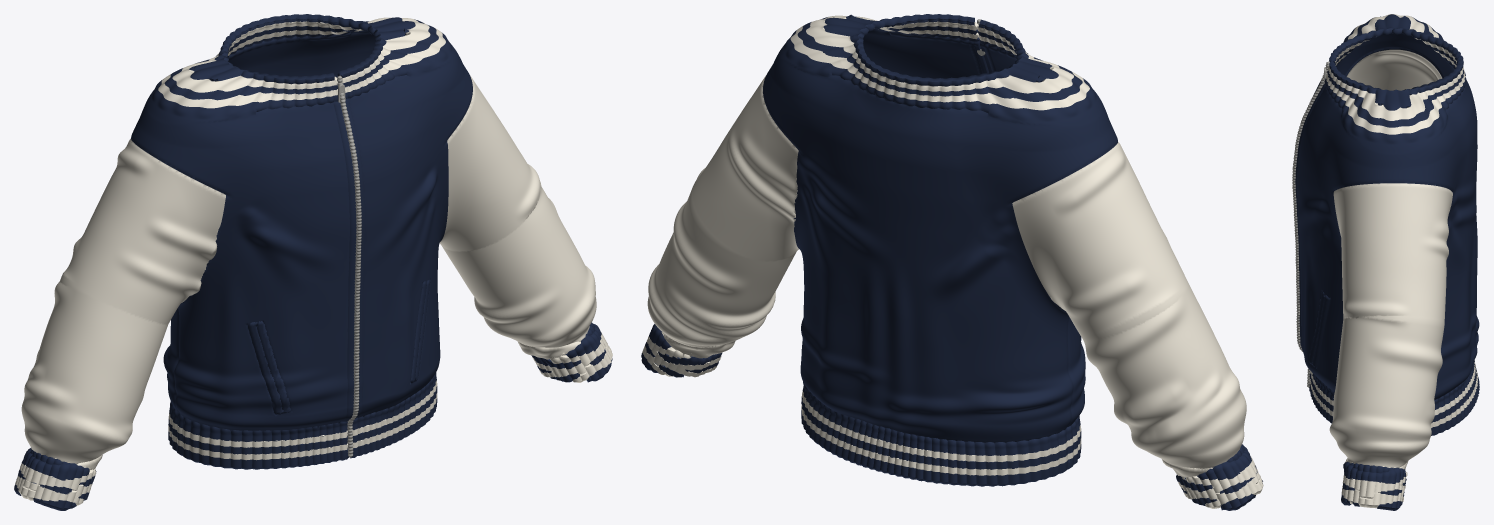
Rendered from 02_chaqueta_varsity_cremallera.glb.
3 views of the same model, side by side, from view 1: azimuth 30°, elevation 25°; view 2: azimuth 150°, elevation 25°; view 3: azimuth 270°, elevation 25° (orthographic). The views are drawn at different scales.
Visible parts, largest first — view 1: body, secondary, trim, zipper; view 2: body, secondary, trim; view 3: body, secondary, trim, zipper.
Part boxes in pixels (bbox=[...]): body: bbox=[14, 14, 612, 510]; secondary: bbox=[21, 75, 596, 469]; trim: bbox=[15, 17, 612, 505]; zipper: bbox=[337, 76, 361, 457]; body: bbox=[641, 14, 1262, 510]; secondary: bbox=[647, 76, 1246, 477]; trim: bbox=[642, 15, 1263, 508]; body: bbox=[1295, 14, 1479, 510]; secondary: bbox=[1329, 49, 1452, 469]; trim: bbox=[1309, 14, 1477, 508]; zipper: bbox=[1292, 61, 1329, 387].
Bounding box in the file's own units: 1.01 × 0.621 × 0.3179.
